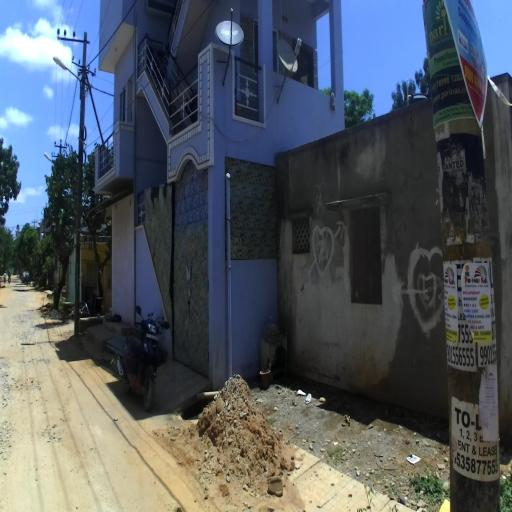street_light_0: (52, 54, 86, 100), (44, 152, 55, 165)
